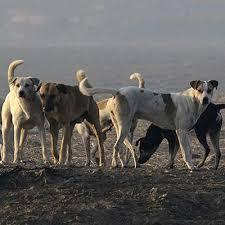normal_dogs: (100, 76, 215, 168), (36, 69, 110, 176), (68, 64, 150, 160), (135, 96, 225, 175), (1, 51, 49, 170)
